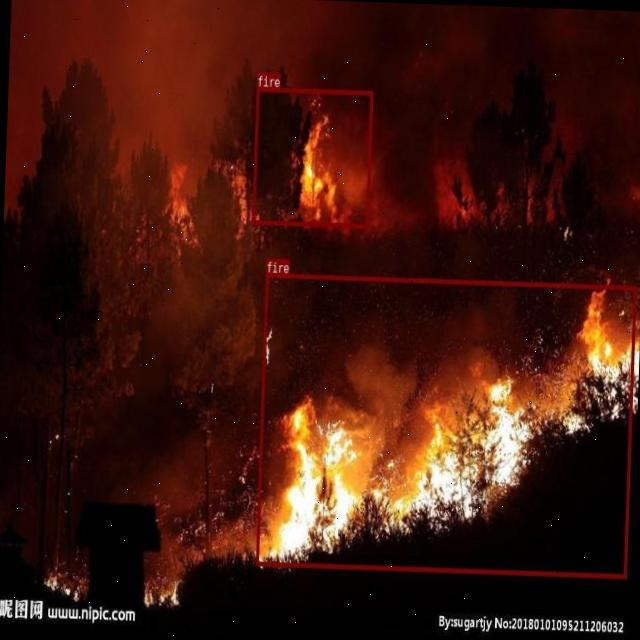fire: (255, 272, 636, 578), (251, 86, 372, 226)
